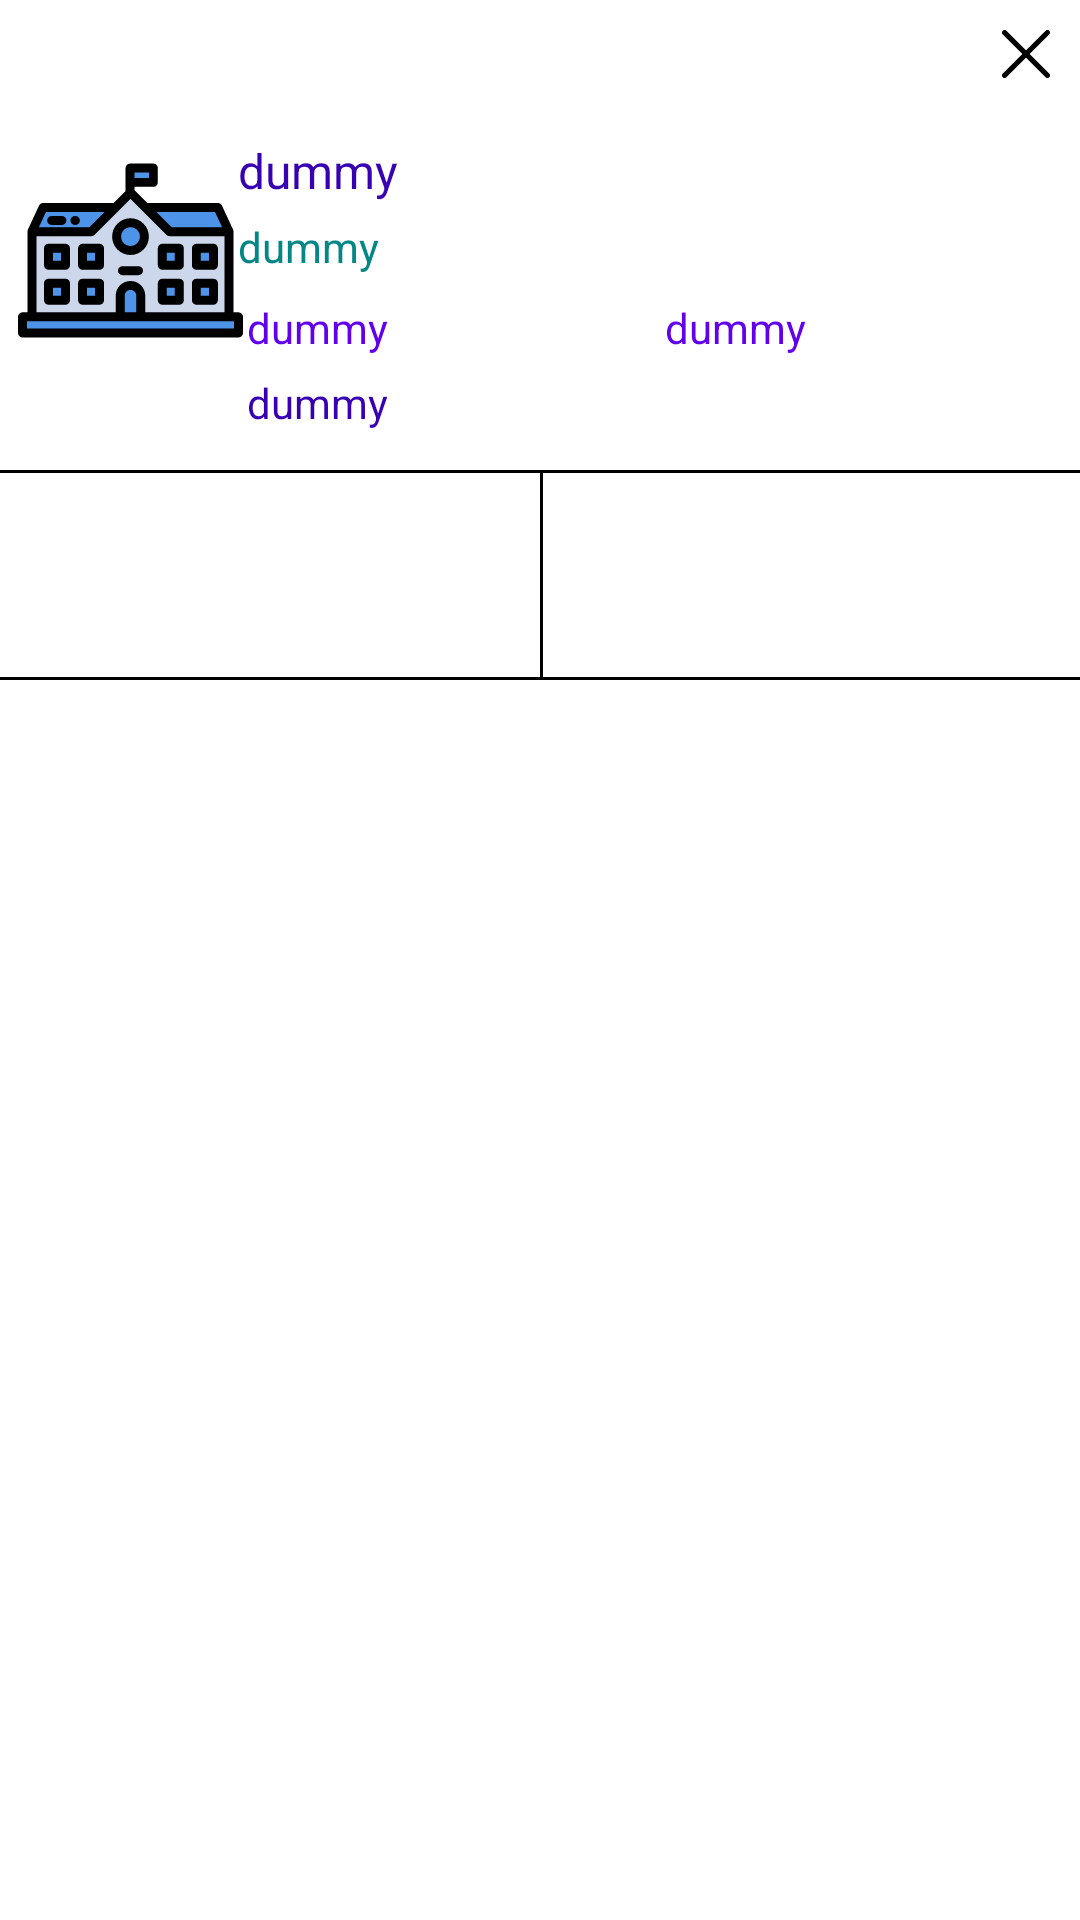

Named icons in this screenshot (1080×1920) and their bounding boxes, (x1, y1, x2, y2):
close: (1002, 30, 1050, 78)
school: (18, 163, 243, 338)
